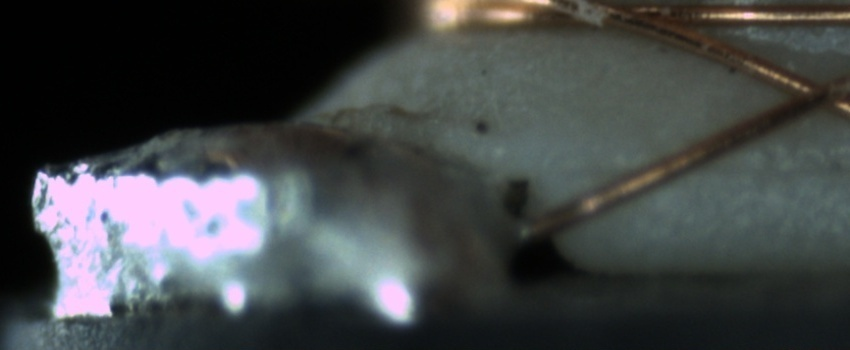CL: (763, 61, 850, 121)
DL: (609, 135, 849, 200)
